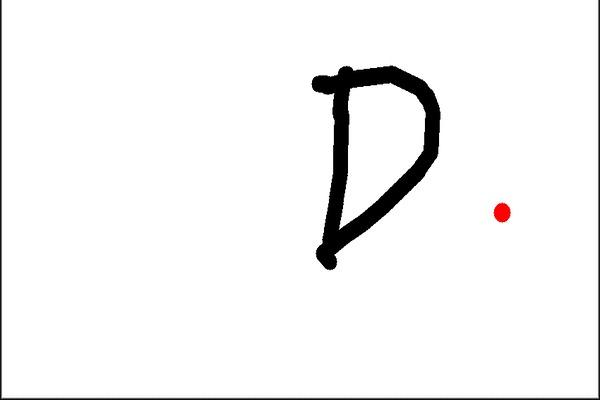D: (305, 55, 451, 275)
